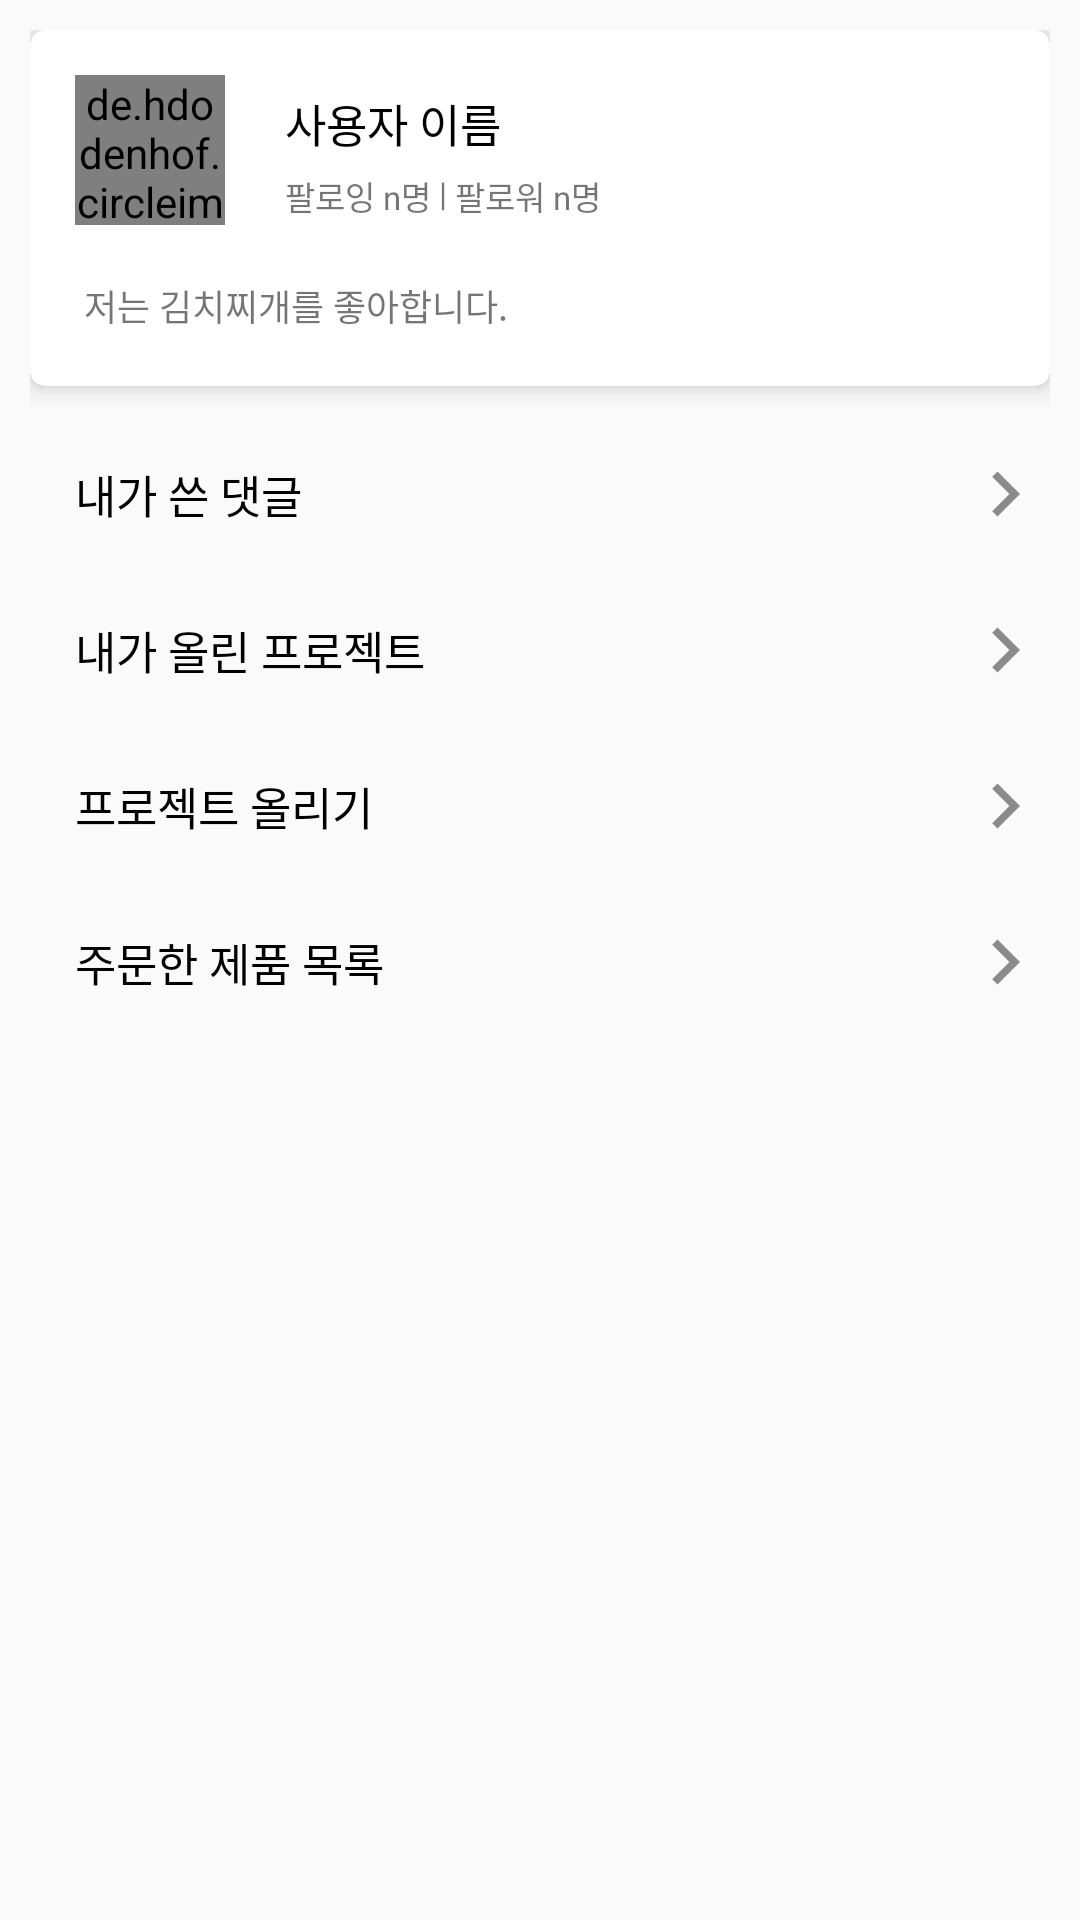

Named icons in this screenshot (1080*1920) and their centers, (x,y):
keyboard arrow right: (1006,494), (1006,650), (1006,806), (1006,962)
